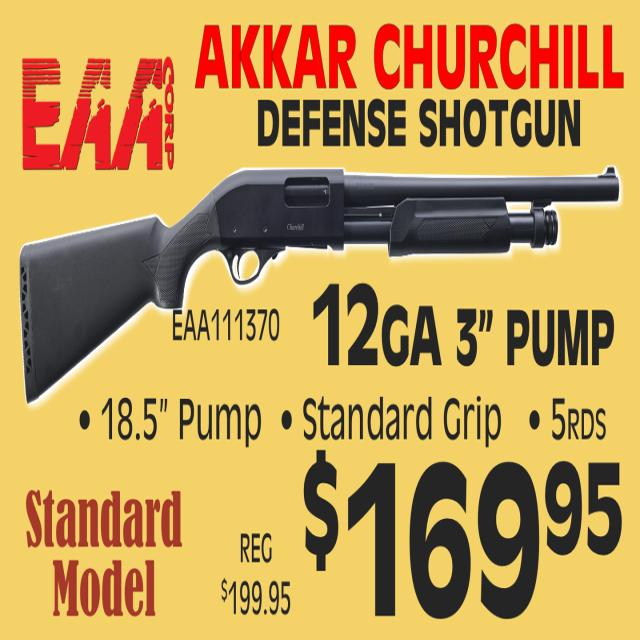ShotGun: (20, 165, 622, 402)
